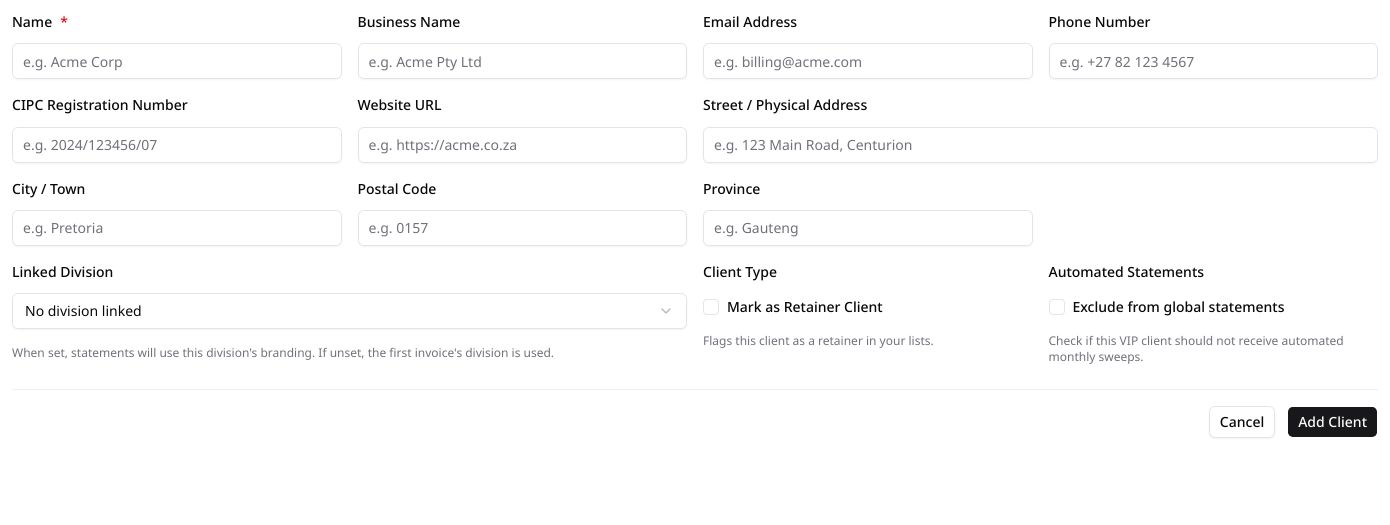
Test: ClientAddForm › clears error on subsequent successful submission
The image size is (1390, 525).
Type "Test Client" into the field with placeholder "e.g. Acme Corp" at (177, 61), box [12, 43, 342, 79]
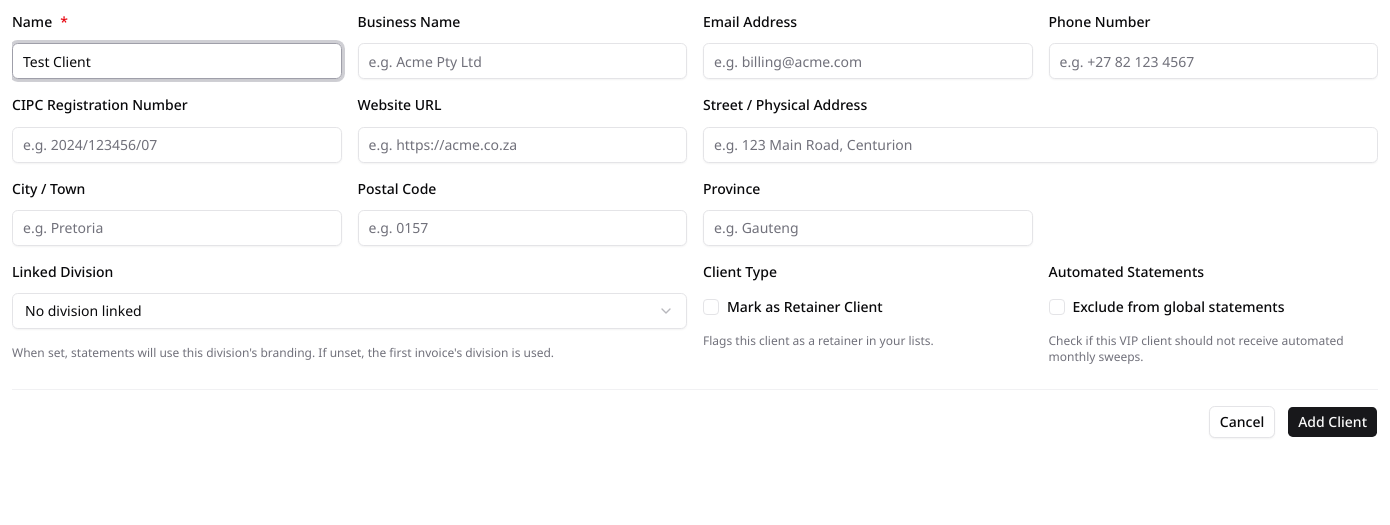
Click the button "Add Client" at (1333, 422), box [1287, 406, 1378, 438]
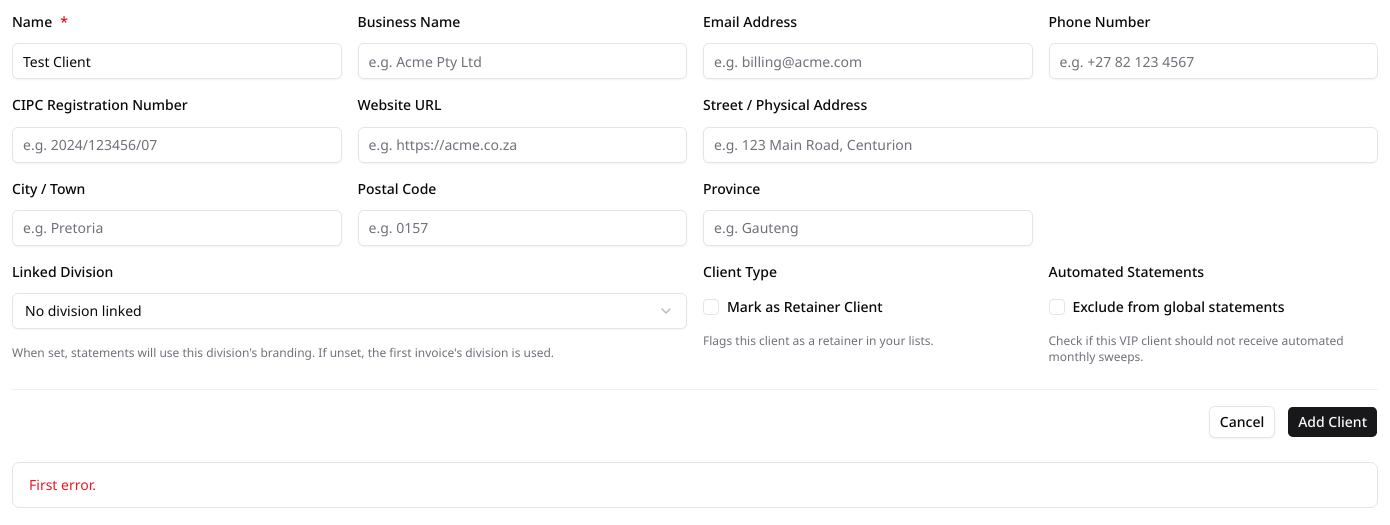
Expected: the text "First error." is shown, [29, 475, 96, 494]
Click the button "Add Client" at (1333, 422), box [1287, 406, 1378, 438]
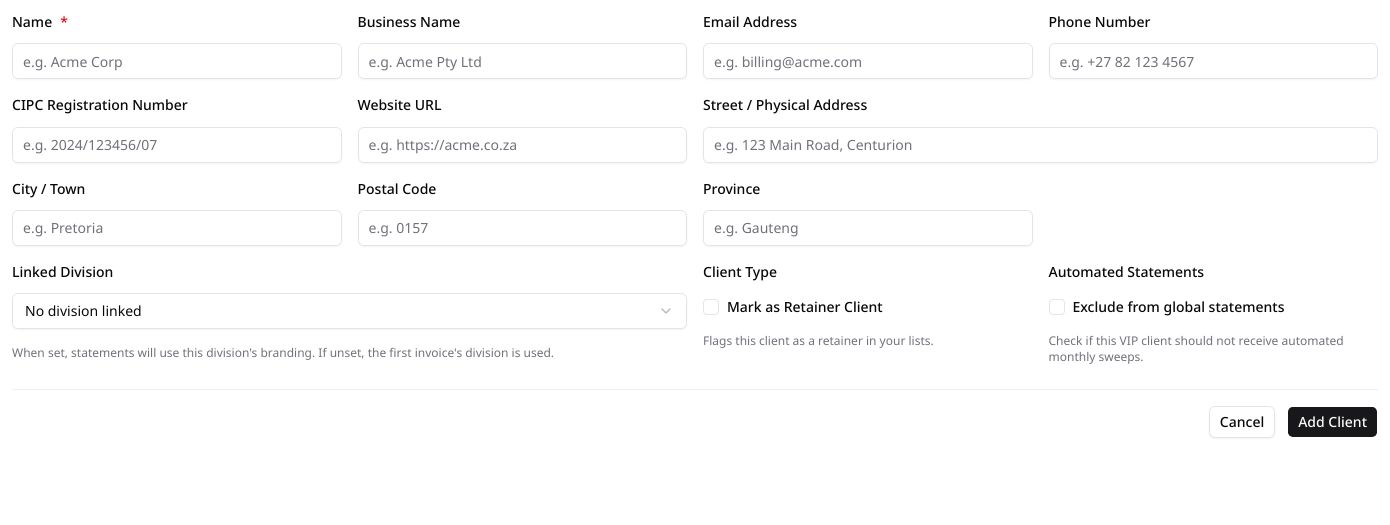
Expected: the text "First error." is gone
